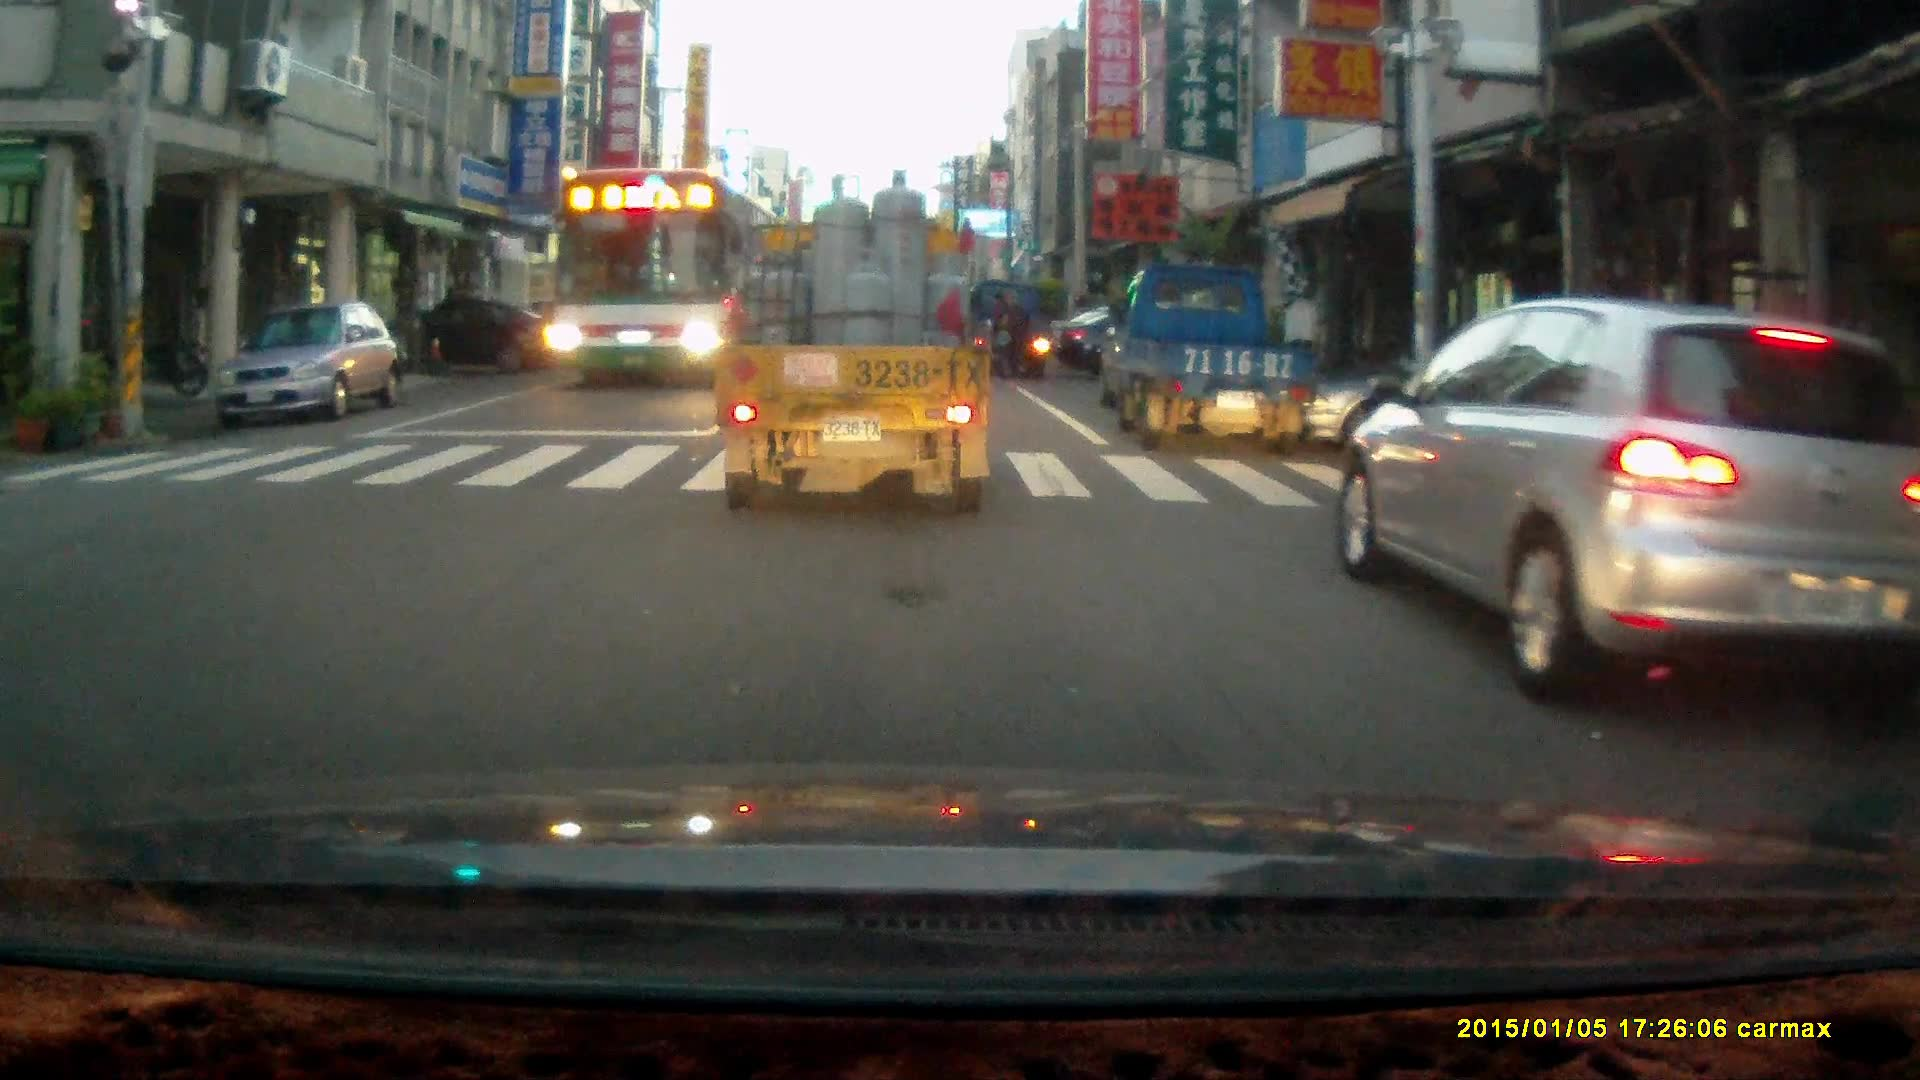pedestrian: (992, 288, 1032, 382)
vehicle: (1336, 297, 1920, 697), (721, 166, 998, 520), (540, 164, 772, 389), (1099, 259, 1316, 452), (206, 292, 410, 427), (402, 297, 562, 377), (969, 274, 1064, 383)
